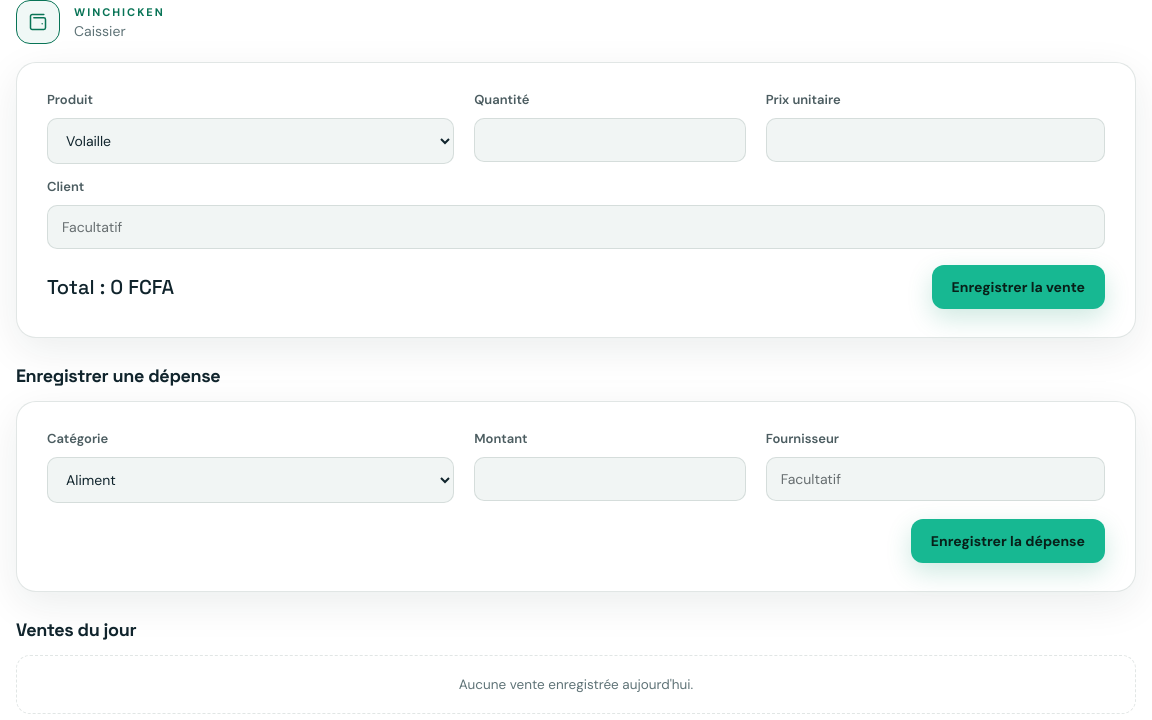
CashierPage — recording a sale › an incomplete sale says what is missing instead of doing nothing
Type "12" into the number field labelled "Quantité" at x=610, y=140, box [474,118,746,162]
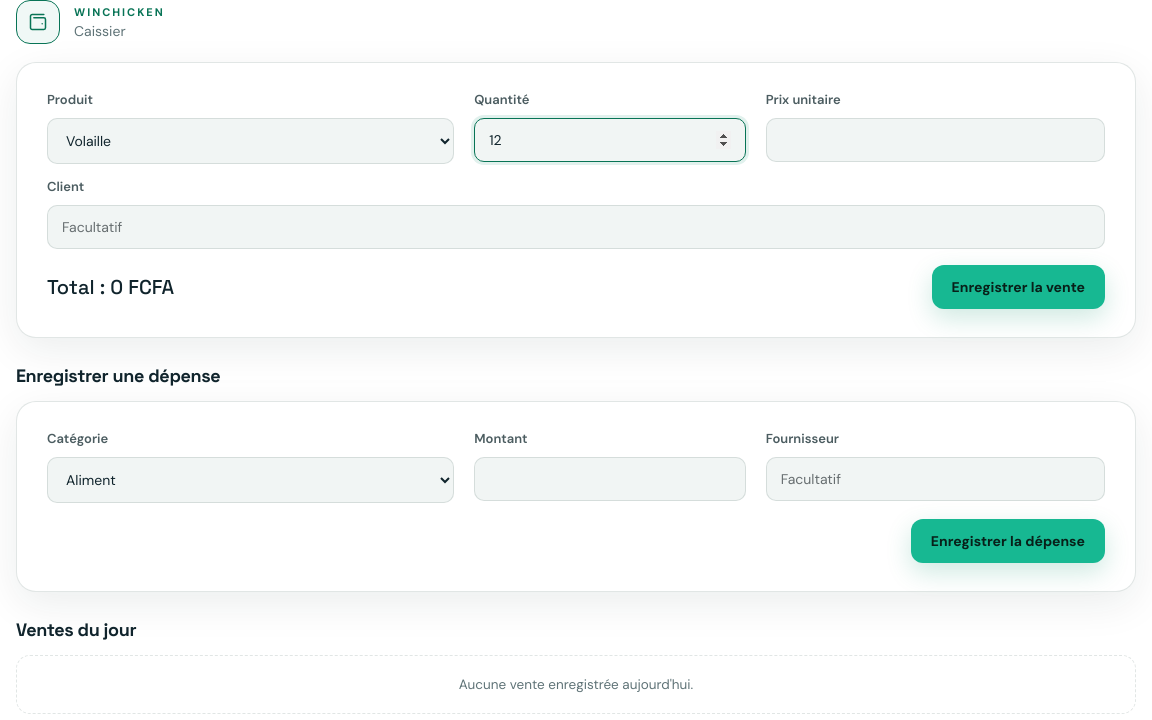
Click the button "Enregistrer la vente" at x=1018, y=287, box [932,265,1105,309]
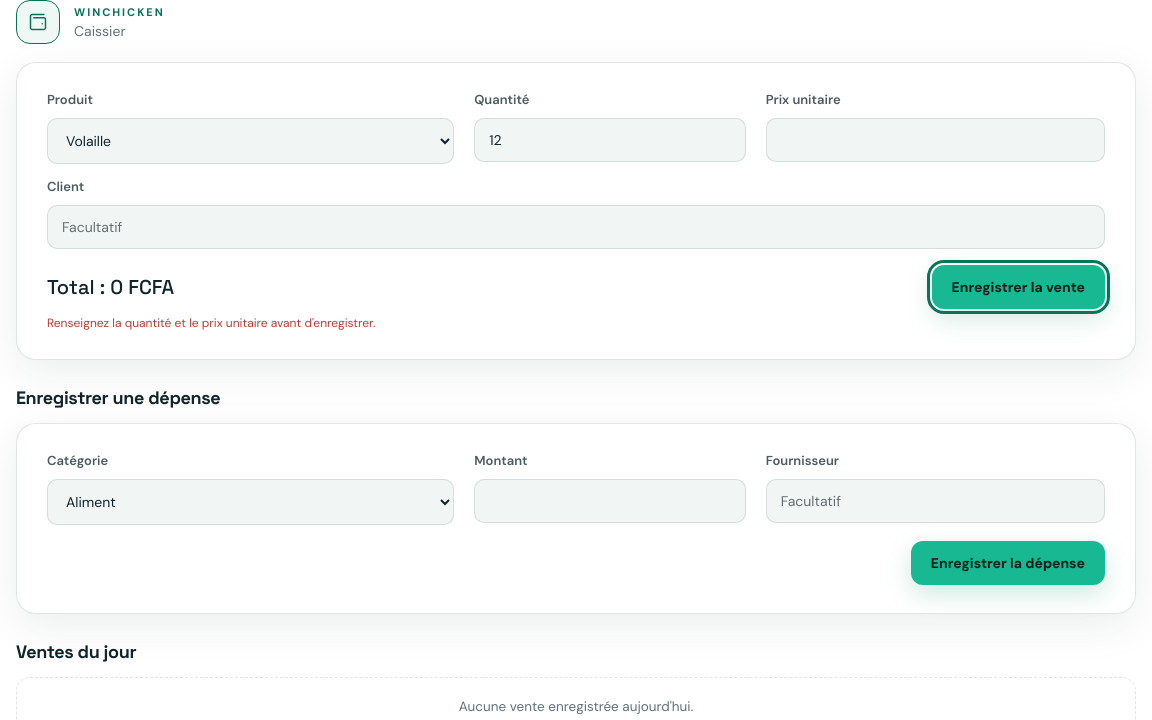
Now the message reads "Renseignez la quantité et le prix unitaire avant d'enregistrer.", box [47,315,375,331]
